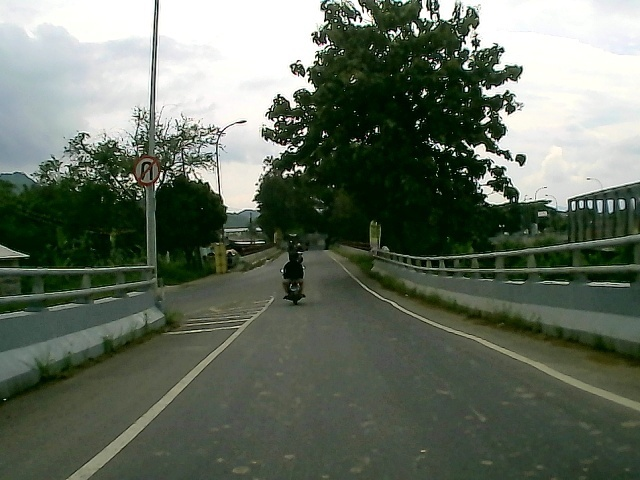Dilarang berbalik arah: (131, 155, 161, 186)
